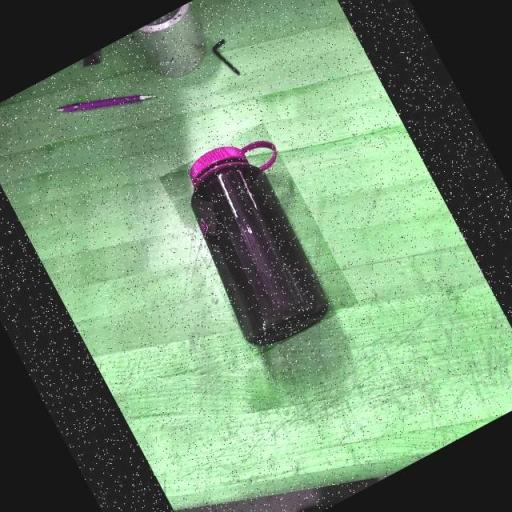bottle: (158, 122, 358, 358)
